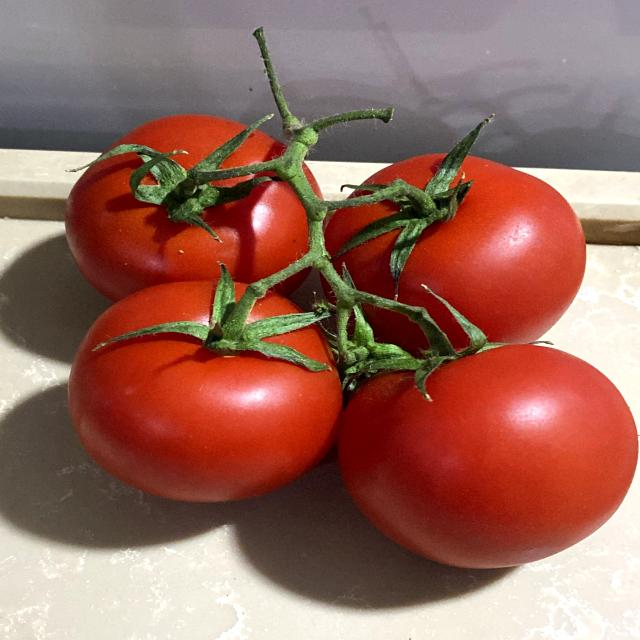tomato: (342, 312, 640, 579), (67, 266, 349, 507), (322, 105, 590, 347), (61, 105, 324, 306)
